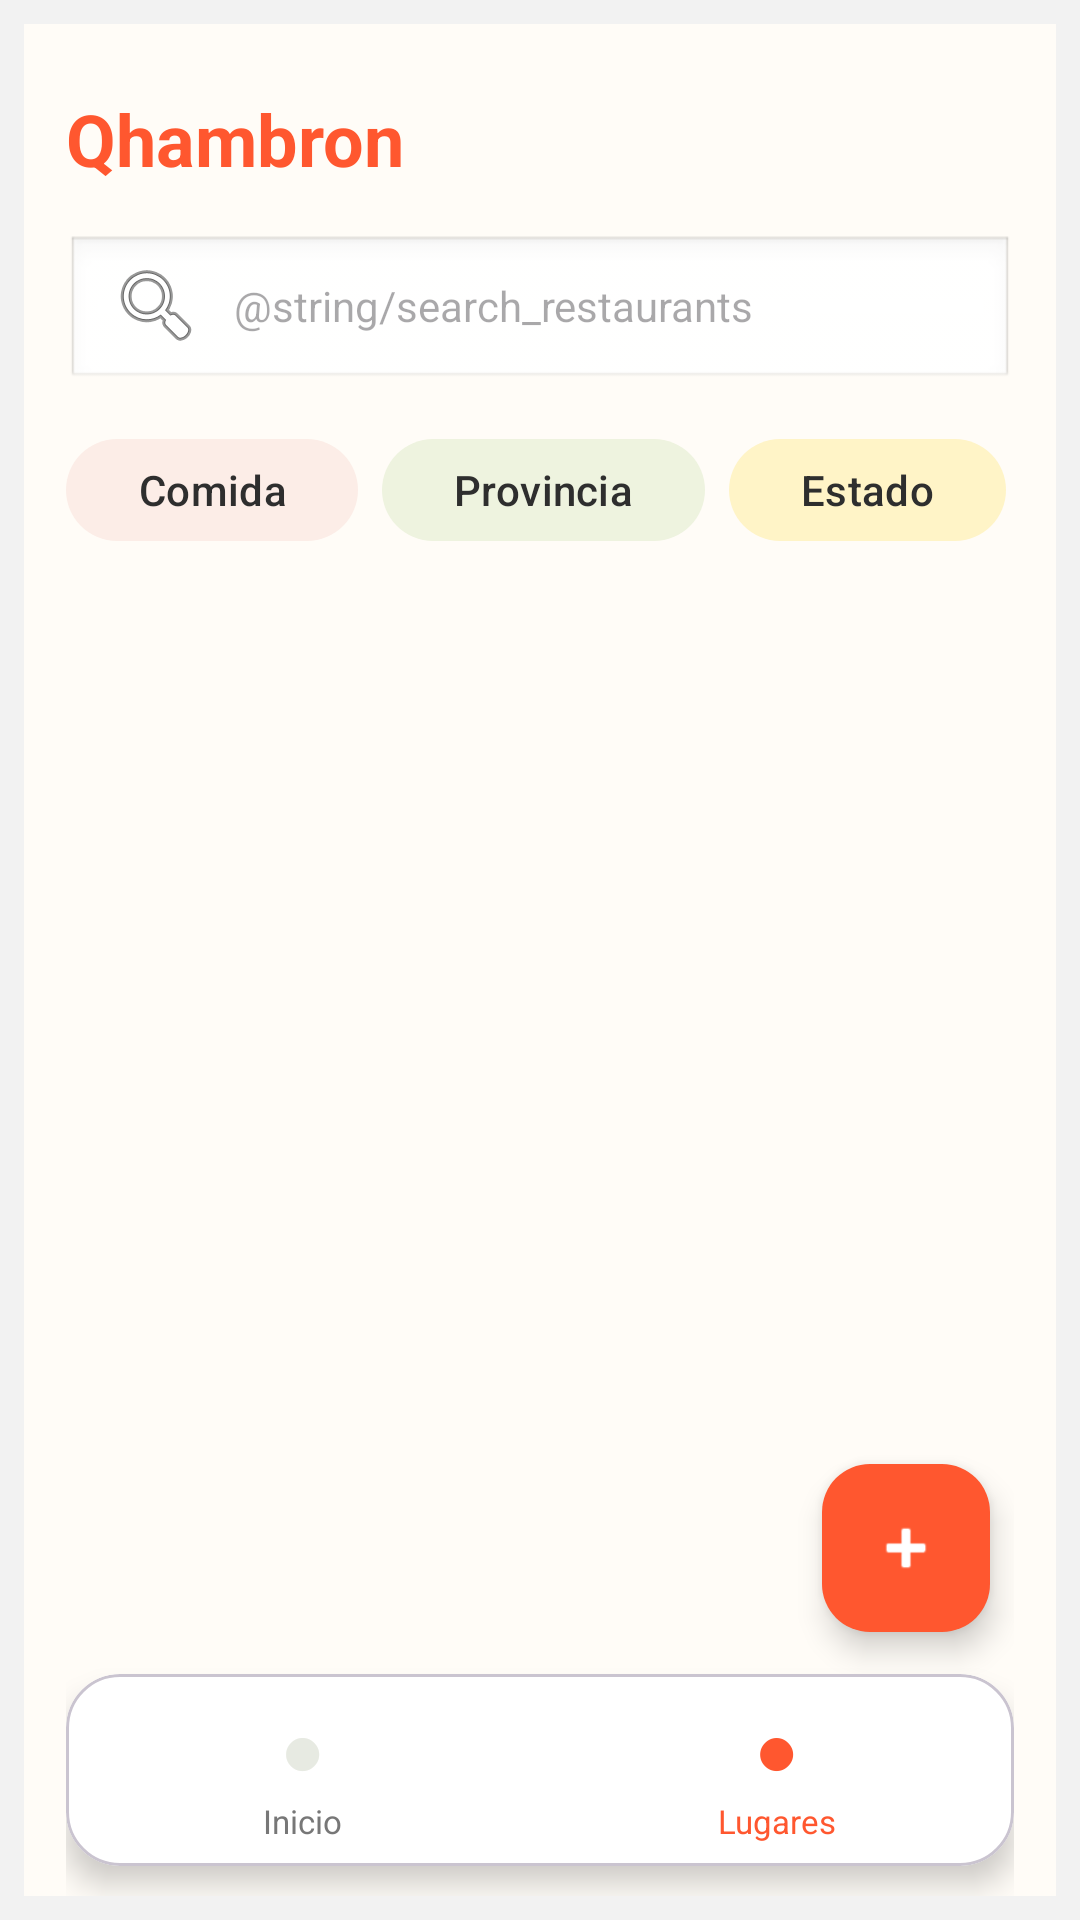

Icons on this 1080 x 1920 Android screen, each with the point to tap as point (x, y):
Agregar lugar: point (906, 1548)
